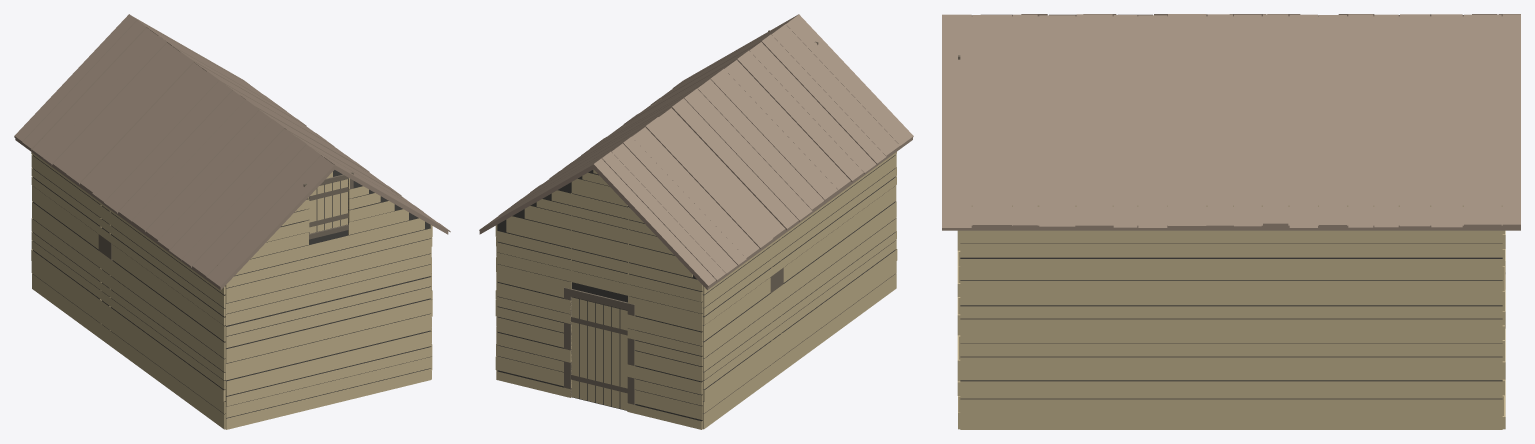
Rendered from recon_1835_west_037__inferred_1835.glb.
3 renders of one model, left to right at view 1: azimuth 30°, elevation 25°; view 2: azimuth 150°, elevation 25°; view 3: azimuth 270°, elevation 25°, orthographic. The views are drawn at different scales.
Visible parts, largest first — view 1: recon_1835_west_037__inferred_1835; view 2: recon_1835_west_037__inferred_1835; view 3: recon_1835_west_037__inferred_1835.
Boxes of the visible parts, x1,y1,x2,y2 form: recon_1835_west_037__inferred_1835: [14, 14, 450, 429]; recon_1835_west_037__inferred_1835: [479, 14, 913, 429]; recon_1835_west_037__inferred_1835: [942, 14, 1520, 429].
Bounding box in the file's own units: 5.5 × 5.56 × 8.46.
